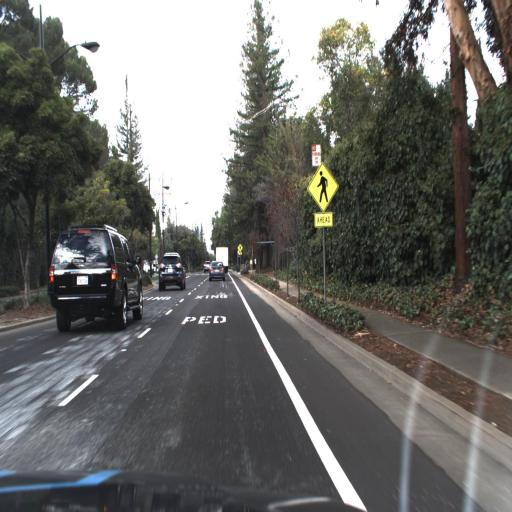car: (46, 222, 142, 332), (158, 248, 186, 292), (209, 258, 227, 282), (200, 259, 212, 275)
truck: (214, 243, 230, 275)
